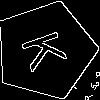K: (20, 25, 77, 73)
